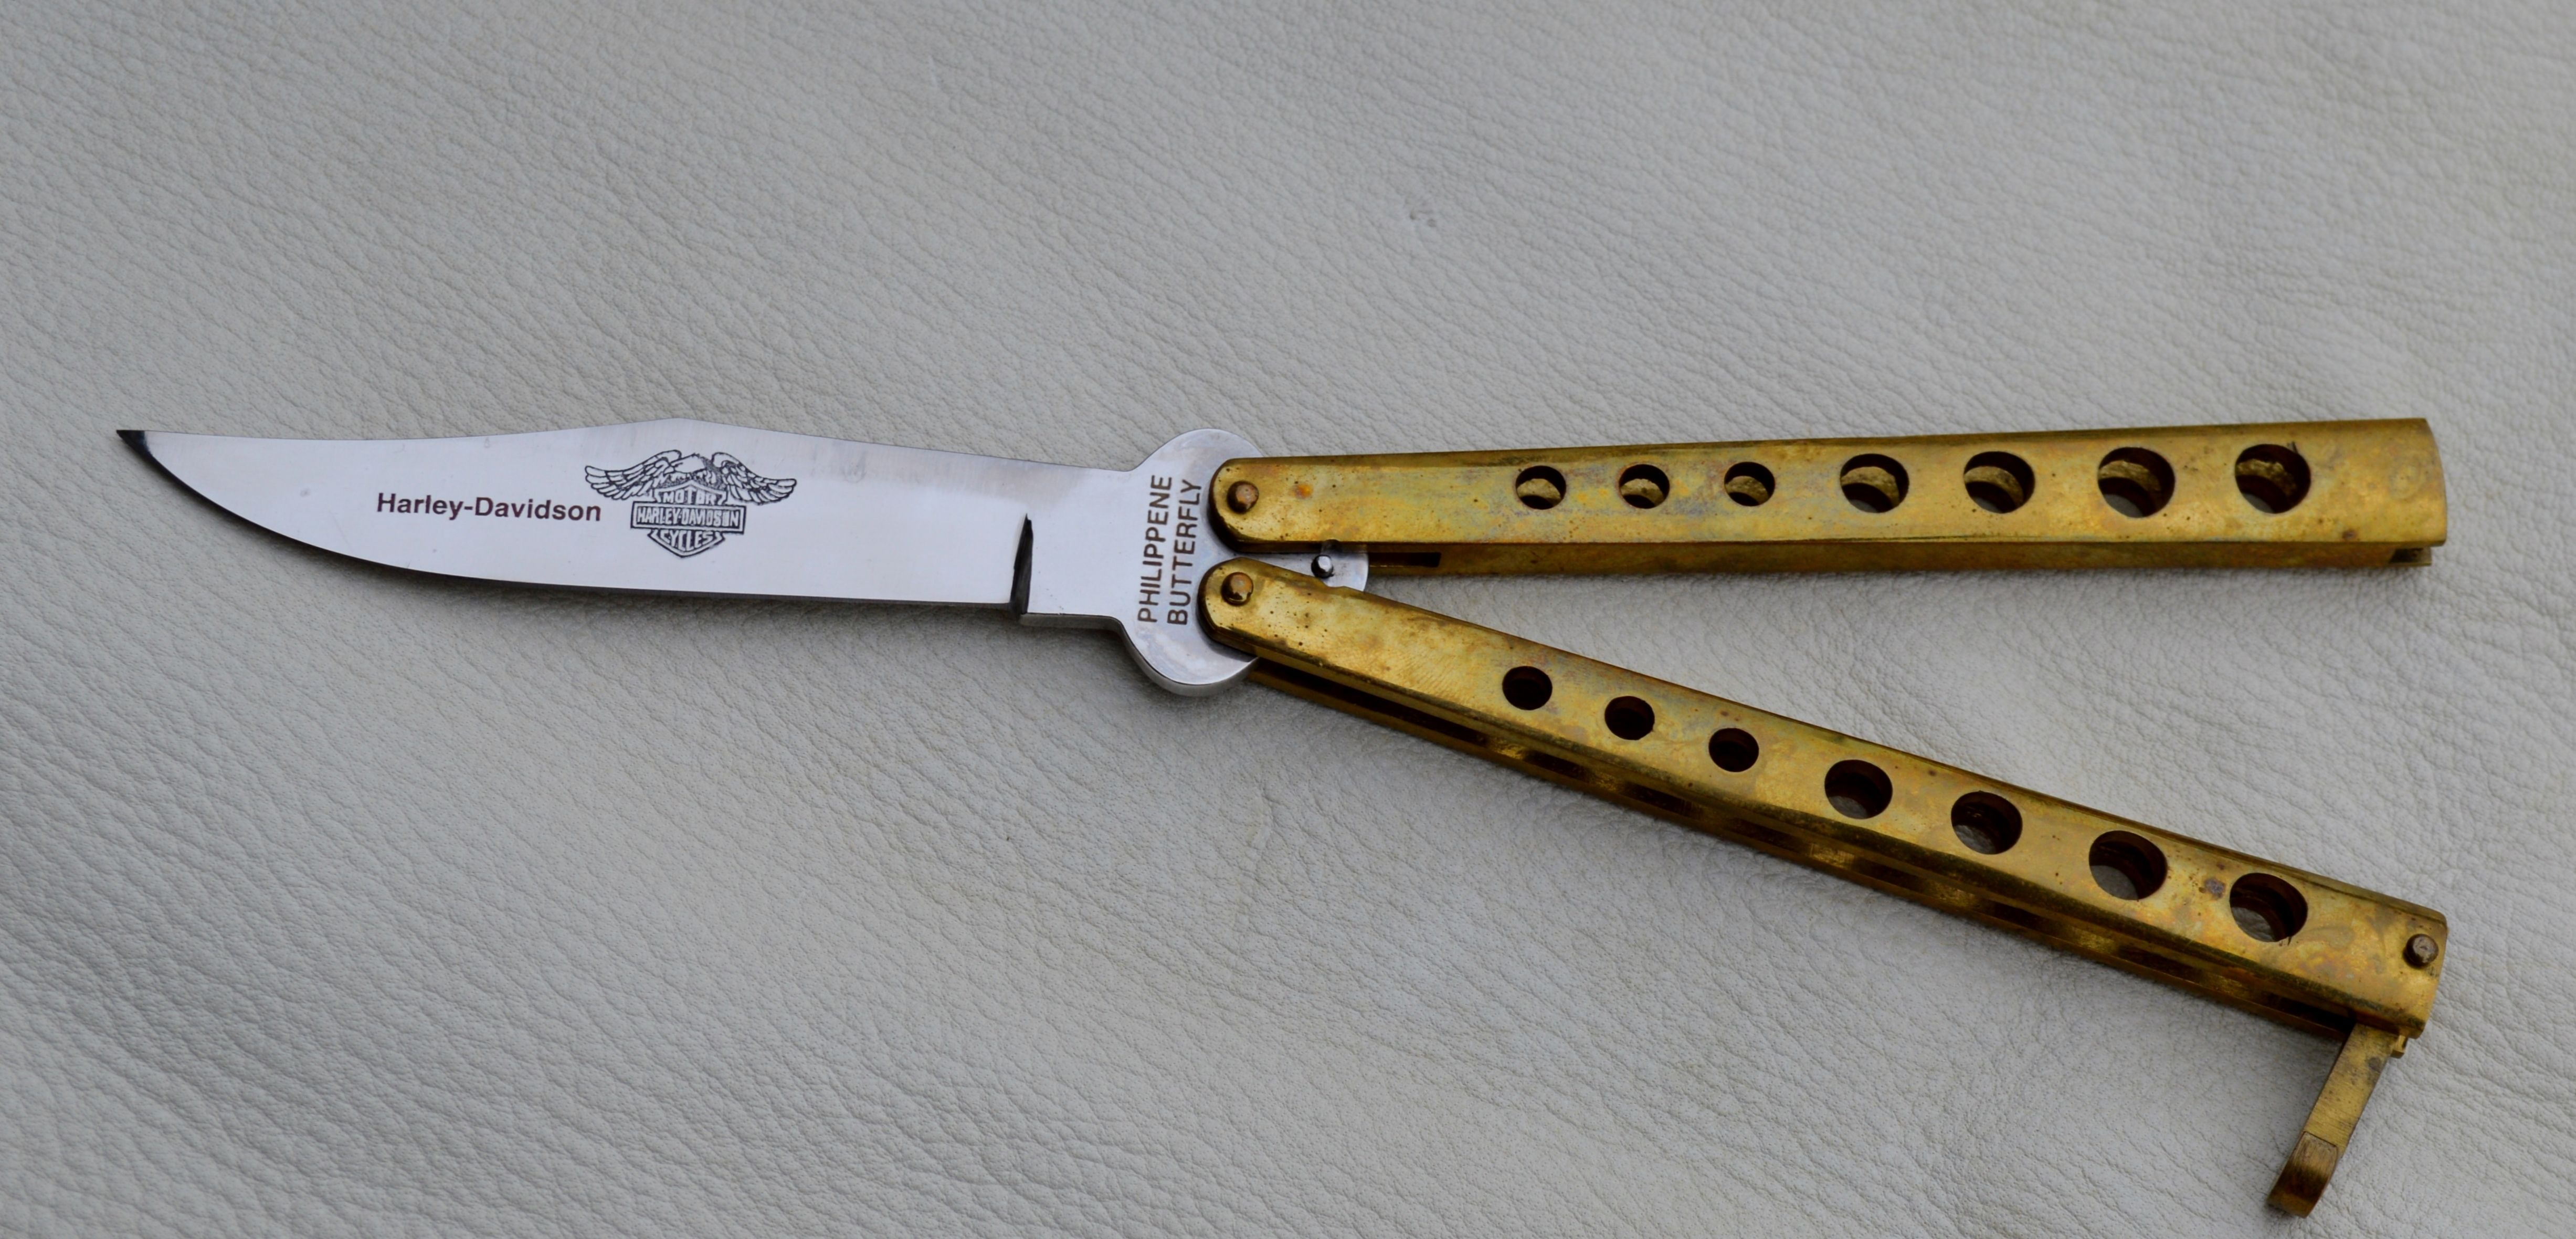knife: (95, 380, 2510, 1224)
